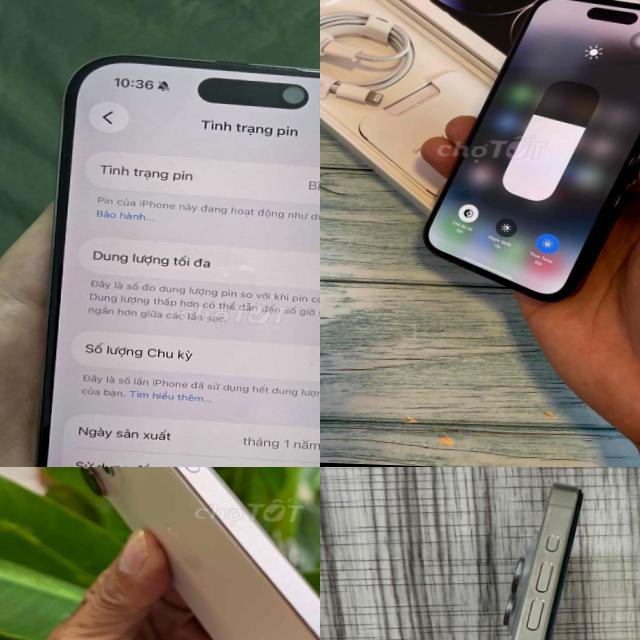gen_14: (414, 0, 640, 304)
gen_15: (9, 43, 320, 467), (449, 471, 596, 640)
gen_16: (78, 467, 320, 640)
